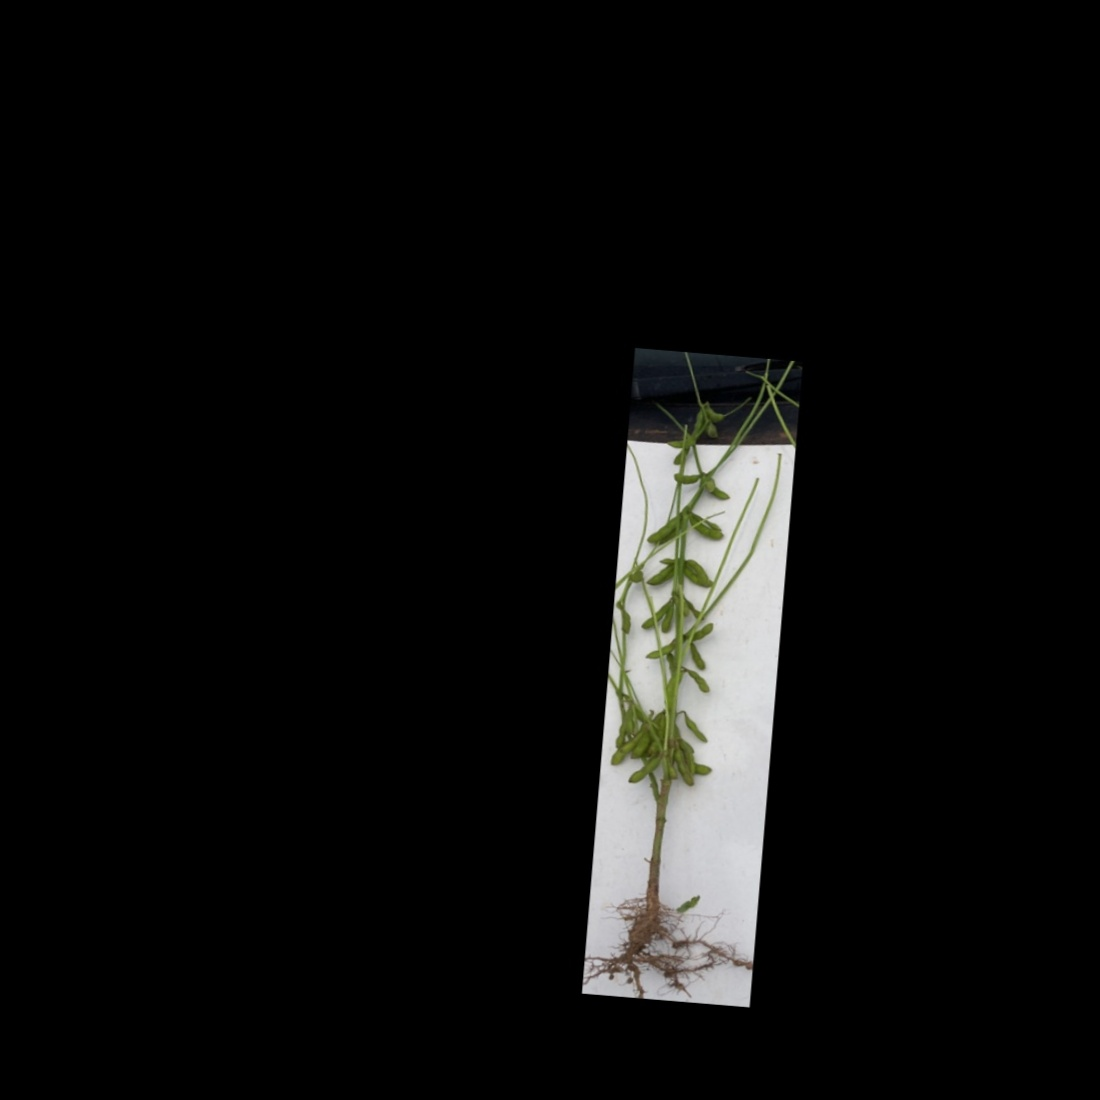pod: (642, 509, 681, 548), (626, 752, 664, 789), (678, 709, 713, 745), (679, 665, 714, 695), (642, 634, 678, 662), (644, 561, 677, 590), (684, 639, 710, 673), (683, 556, 713, 583), (661, 434, 699, 451), (667, 471, 707, 486)
soy: (591, 372, 770, 986)
